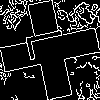L: (25, 25, 76, 61)
